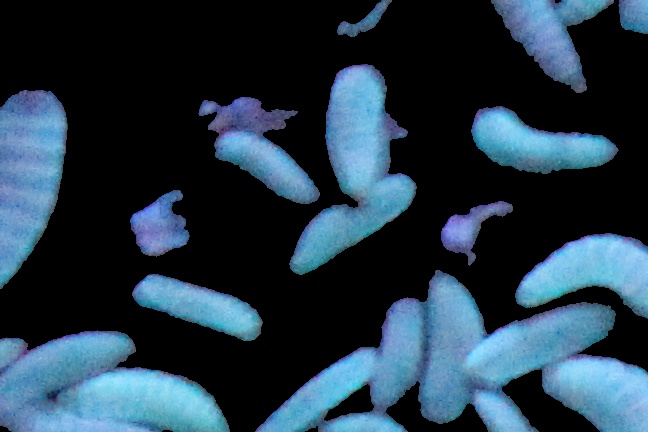larvae: (1, 89, 67, 287), (290, 175, 414, 279), (469, 302, 617, 387), (472, 101, 627, 174), (58, 366, 230, 431), (512, 235, 648, 316), (254, 349, 374, 430), (1, 334, 135, 405), (421, 273, 482, 422), (483, 1, 585, 90), (129, 276, 264, 341), (213, 122, 318, 204), (324, 64, 387, 195), (545, 357, 648, 429), (374, 299, 425, 405), (14, 399, 149, 432), (463, 385, 533, 430)
